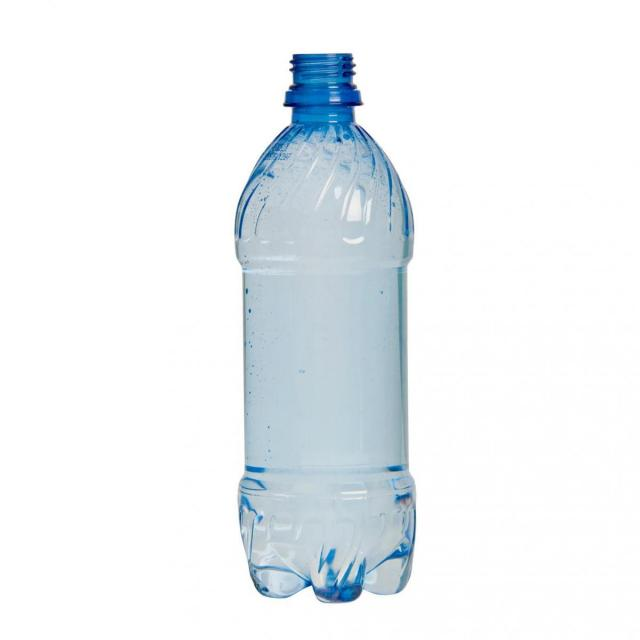bottle: (221, 41, 422, 604)
